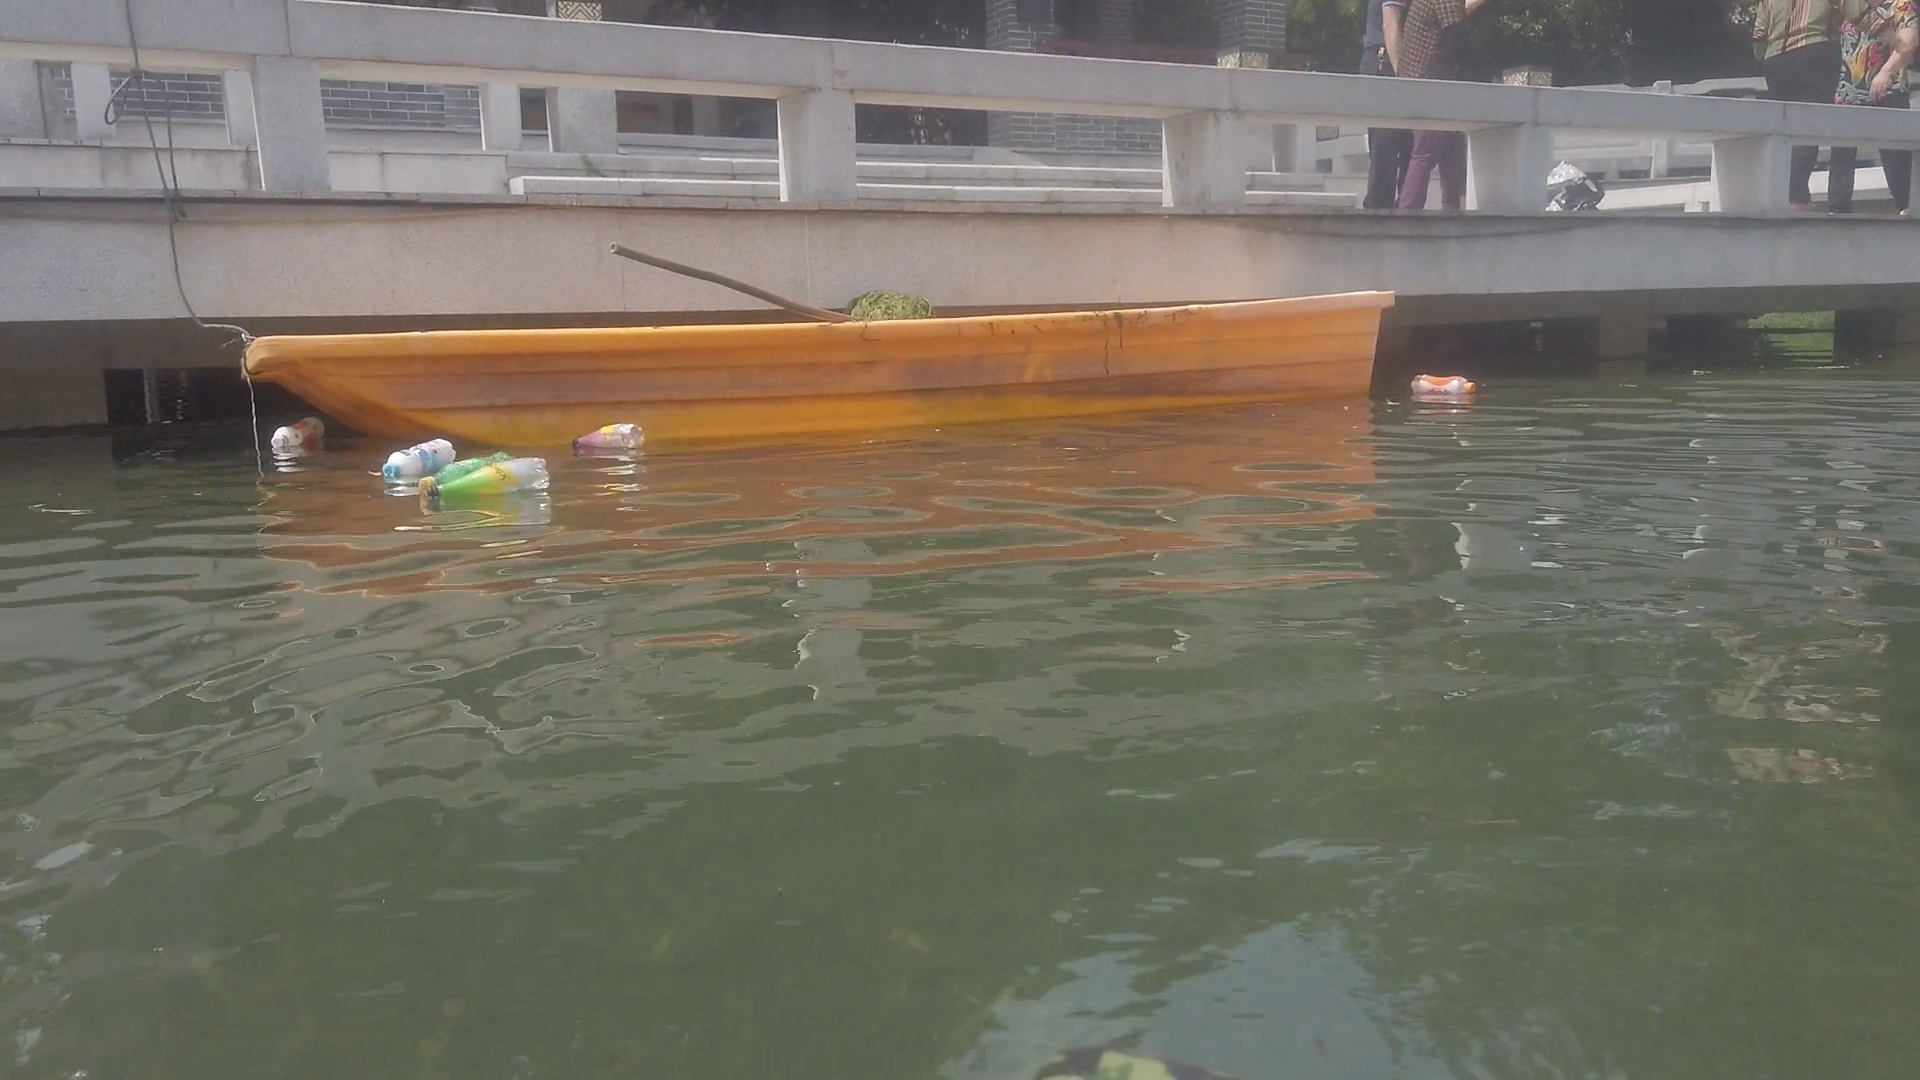bottle: (429, 456, 550, 497), (422, 454, 509, 489), (378, 438, 455, 477), (1410, 369, 1478, 398), (574, 426, 650, 448), (270, 415, 322, 448)
